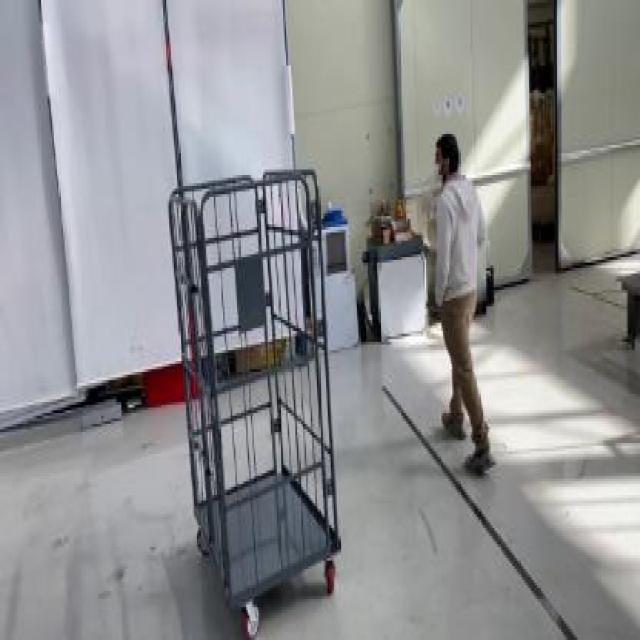cart: (172, 161, 336, 632)
person: (426, 112, 494, 484)
